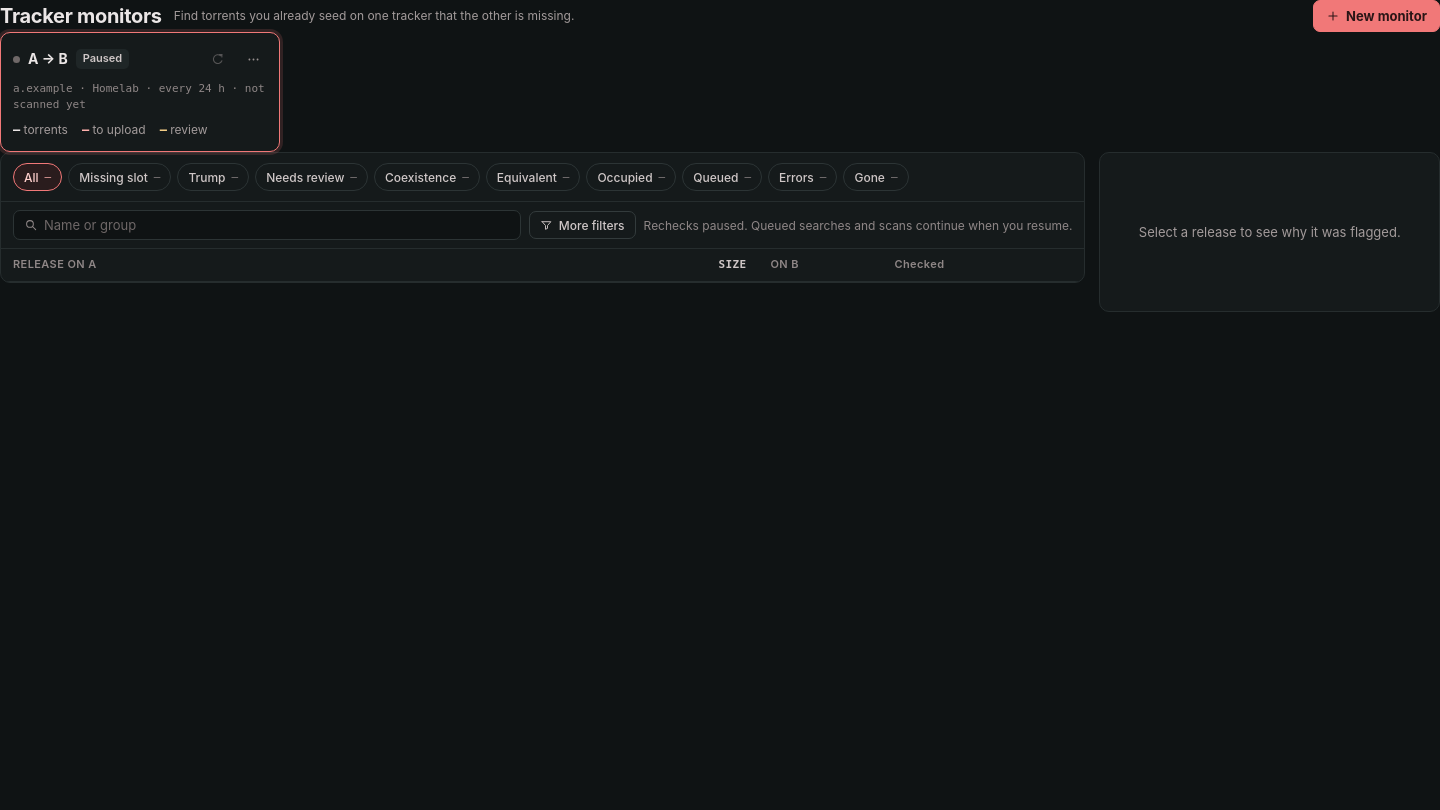
Test case: explains an empty selection of a paused monitor's instances
The image size is (1440, 810).
Press ArrowDown in the button named "Monitor options", box left=239, top=45, right=267, bottom=73
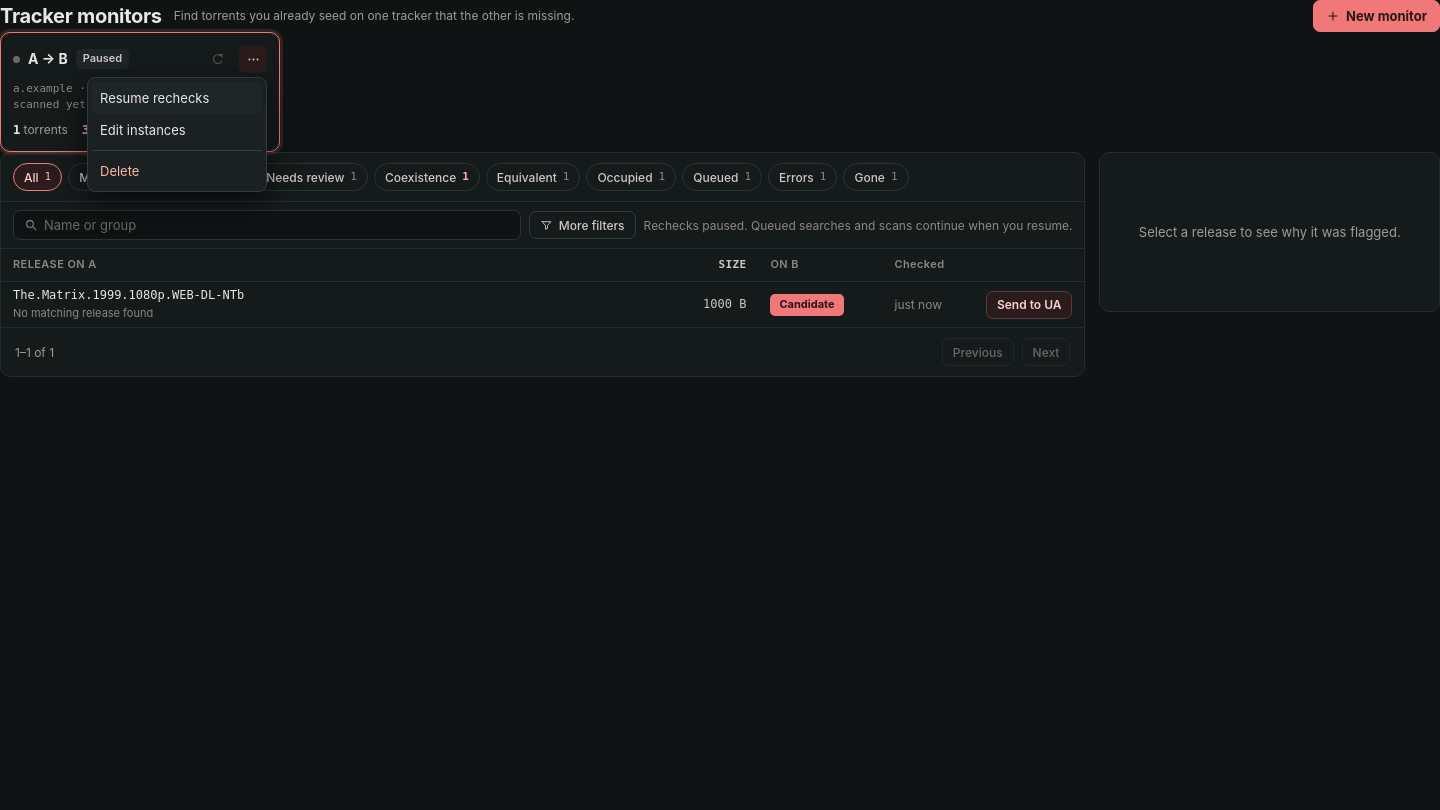
Click the menu item "Edit instances".
click(143, 130)  # box left=100, top=122, right=186, bottom=138
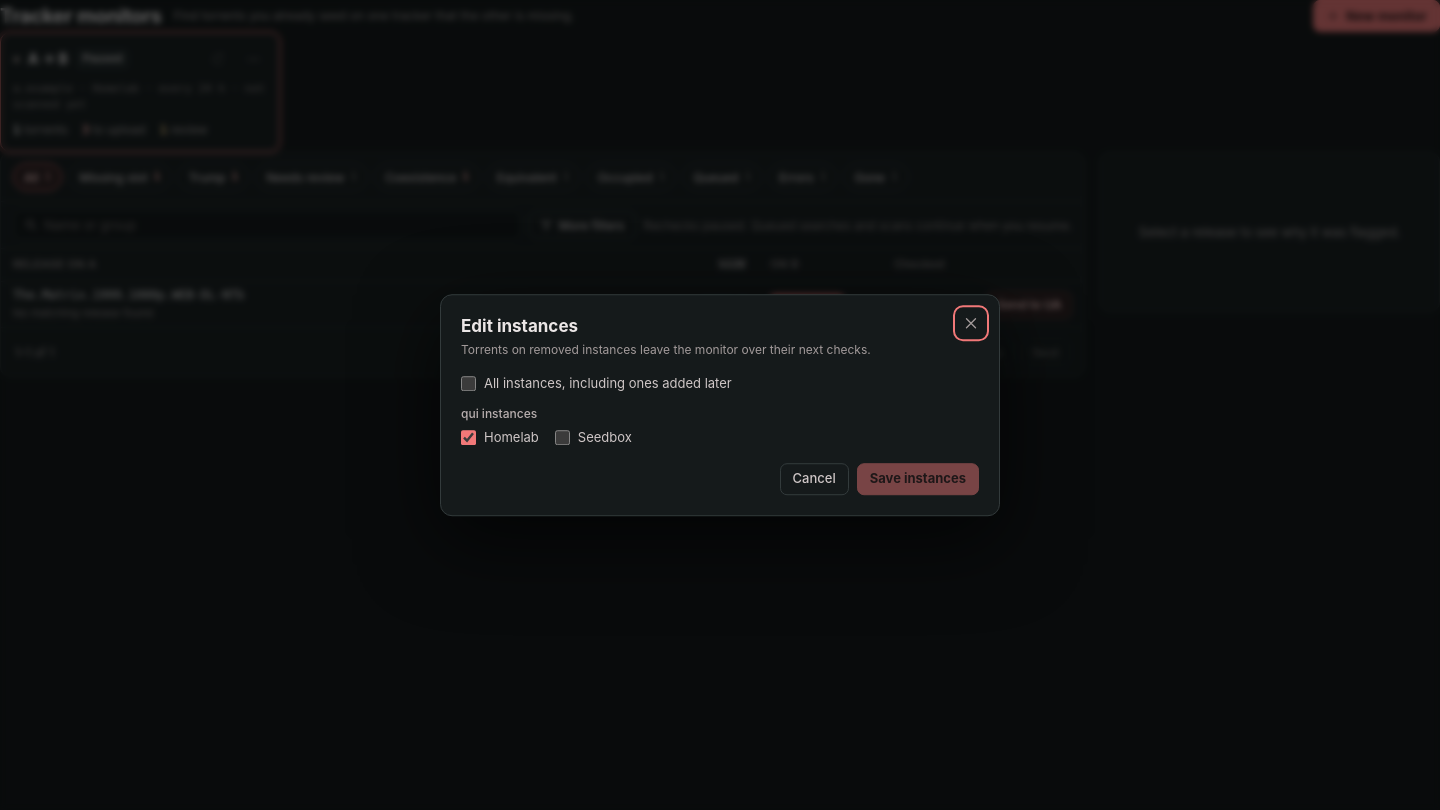
Check: the checkbox labelled "Homelab" is checked
Check: the text "Torrents on removed instances leave the monitor" is shown, box left=461, top=342, right=871, bottom=357
Click the checkbox labelled "Homelab".
click(468, 437)  # box left=461, top=430, right=476, bottom=445
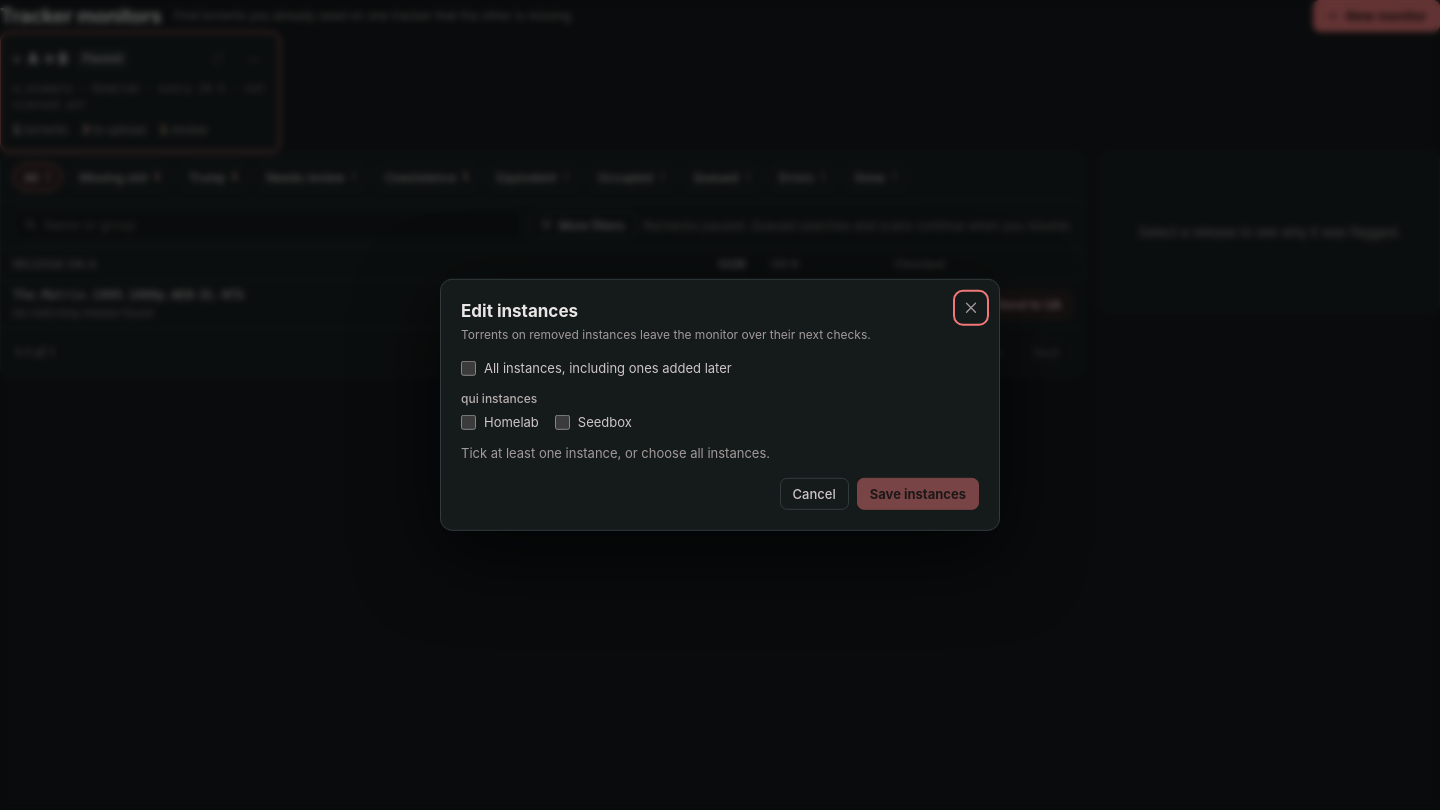
Check: the button "Save instances" is disabled, box left=857, top=478, right=979, bottom=510
Check: the text "Tick at least one instance, or choose all instances." is shown, box left=461, top=444, right=770, bottom=460
